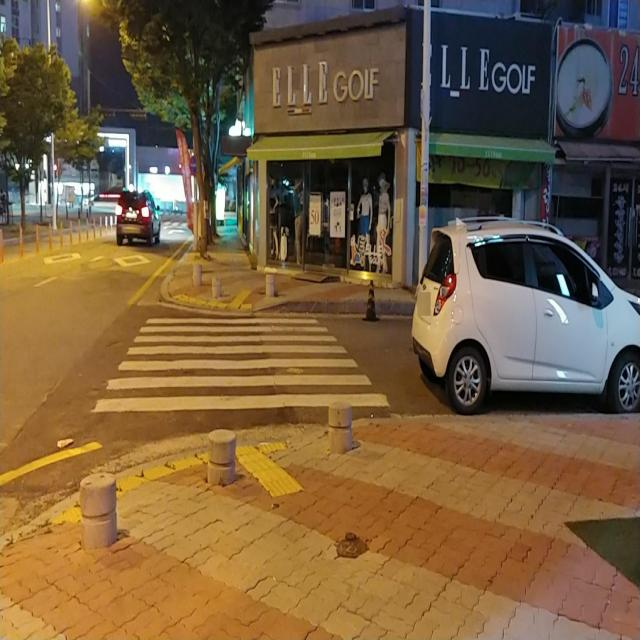횡단보도: (89, 316, 391, 415)
